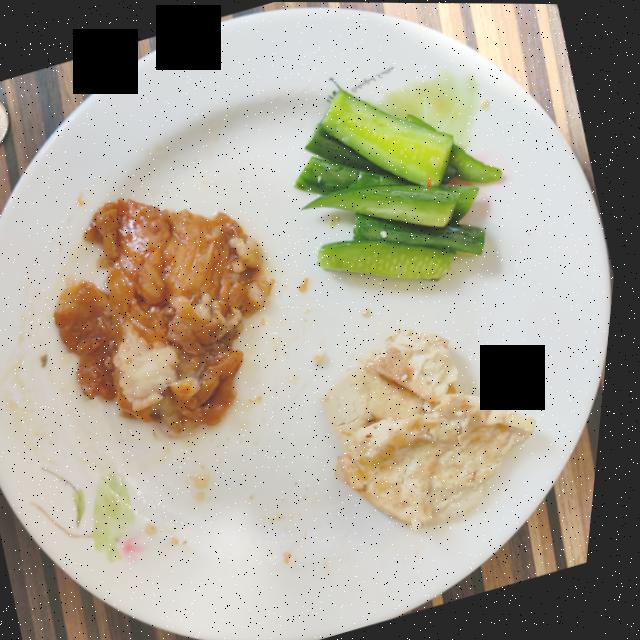Kabayaki sea bream fillet: (59, 198, 278, 437)
coin: (0, 102, 10, 144)
cucumber: (297, 89, 505, 279)
